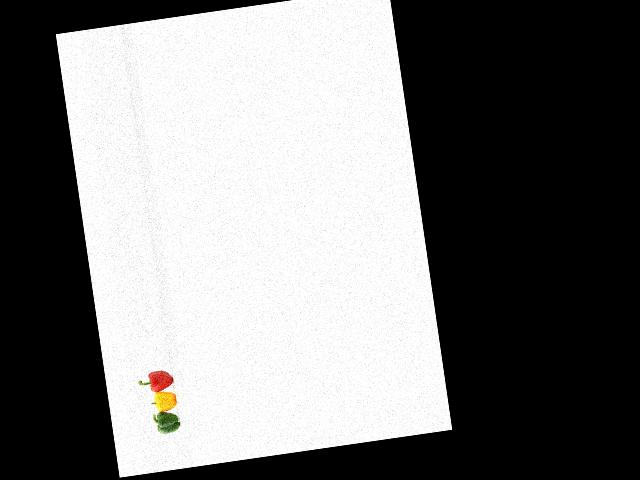bell_pepper: (133, 362, 178, 396)
